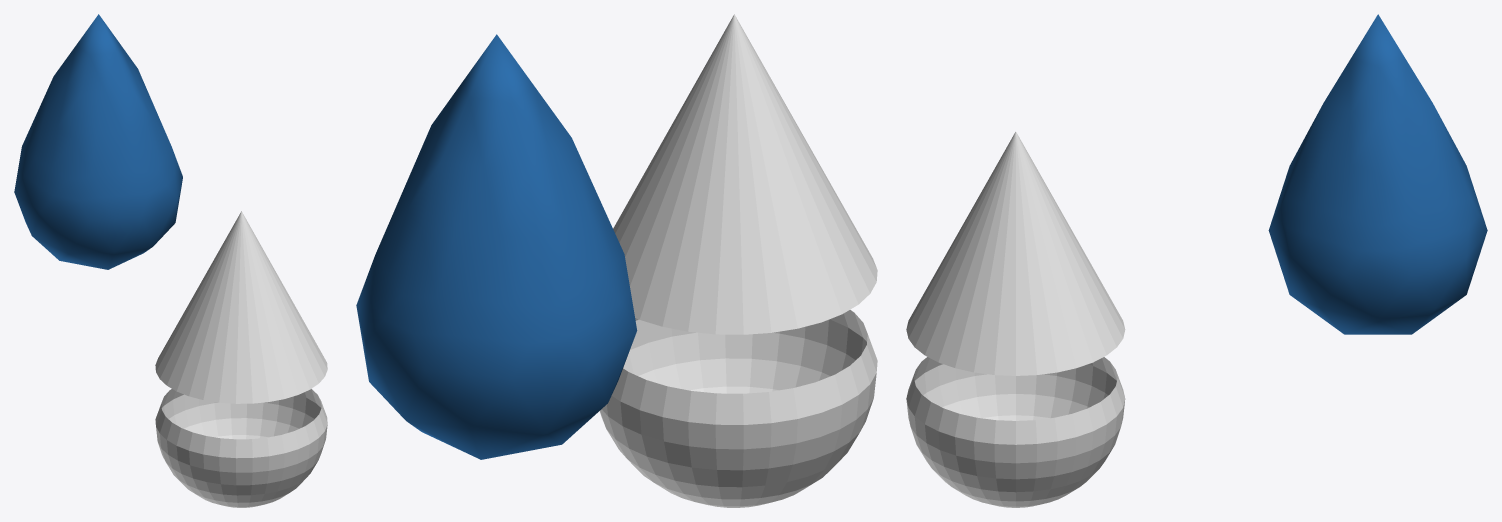
3 renders of one model, left to right at view 1: azimuth 30°, elevation 25°; view 2: azimuth 150°, elevation 25°; view 3: azimuth 270°, elevation 25°, orthographic. The views are drawn at different scales.
Parts seen in each view (by area): view 1: Icosphere, Cone, Sphere; view 2: Icosphere, Cone, Sphere; view 3: Icosphere, Cone, Sphere.
Part boxes in pixels (left/top/right/bottom): Icosphere: left=14, top=14, right=182, bottom=269; Cone: left=155, top=211, right=327, bottom=403; Sphere: left=155, top=389, right=327, bottom=507; Icosphere: left=356, top=34, right=637, bottom=459; Cone: left=613, top=14, right=877, bottom=334; Sphere: left=599, top=310, right=877, bottom=507; Icosphere: left=1268, top=14, right=1487, bottom=334; Cone: left=906, top=131, right=1125, bottom=375; Sphere: left=906, top=357, right=1125, bottom=507.
Size of the model in its own units: 200 by 488 by 531.
